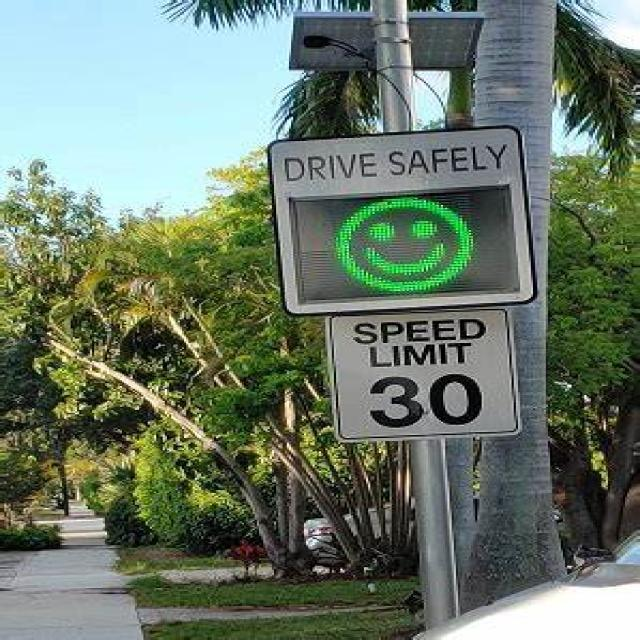speedLimit30: (335, 306, 523, 441)
